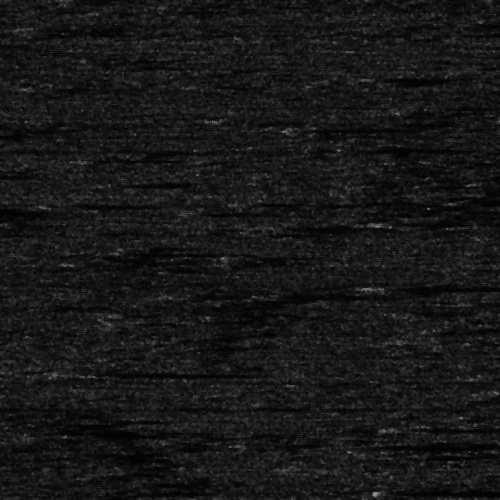object: (32, 369, 137, 378), (362, 280, 415, 291), (352, 488, 425, 493), (270, 124, 311, 131), (444, 223, 500, 228), (389, 424, 430, 429)
shadow: (84, 369, 220, 378), (389, 280, 500, 291), (291, 124, 400, 131), (389, 488, 500, 493), (410, 424, 500, 429)
